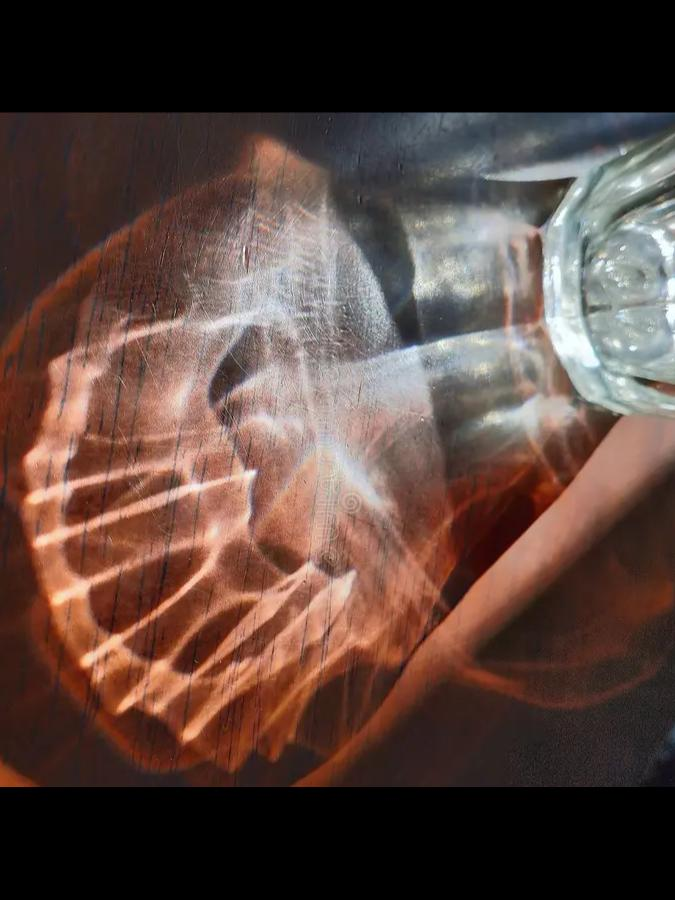controlled_fire: (46, 162, 675, 709)
